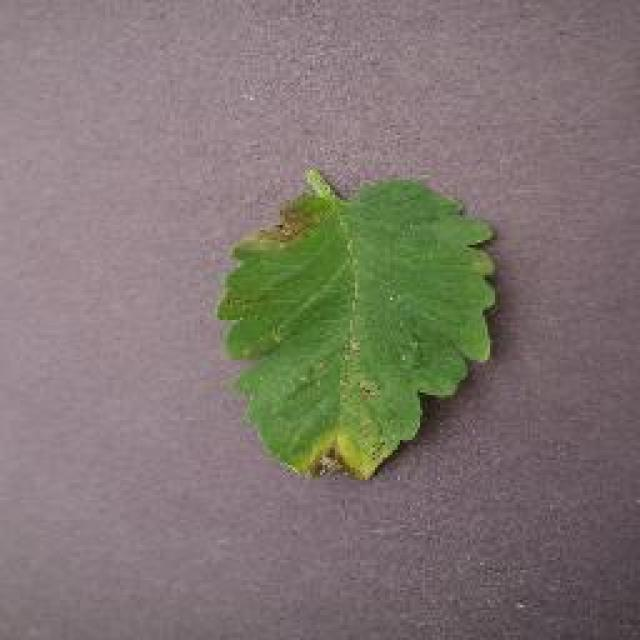Tomato___Late_blight: (212, 170, 502, 482)
